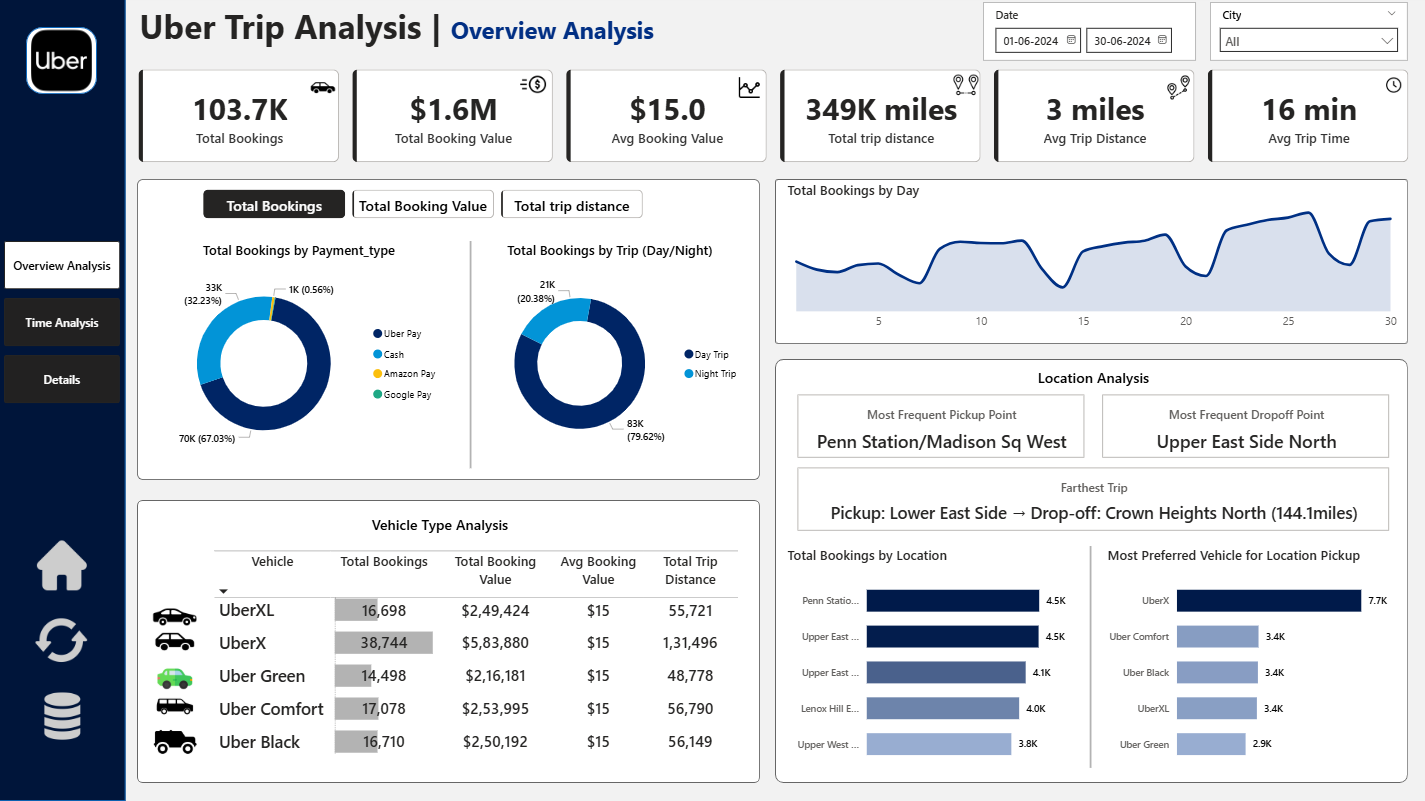

The page's visual inventory and layout, read from the dashboard file:
{"tool":"powerbi","page":{"name":"Overview Analysis","canvas":[1600,900],"ordinal":0},"visuals":[{"type":"shape","box":[0,0,142,900],"z":0},{"type":"cardVisual","fields":{"Data":["Trip Details.Total Bookings","Trip Details.Total Booking Amount","Trip Details.Avg Booking Amt","Trip Details.Total trip distance","Trip Details.Avg Trip Distance","Trip Details.Avg Trip Time"]},"box":[151.9,73.7,1437.5,114.5],"z":0,"group":"g1"},{"type":"textbox","box":[152.6,0,648.6,61.7],"z":1000},{"type":"shape","box":[154.9,202,699.1,337.8],"z":2000},{"type":"image","box":[577.9,76.3,42.6,39.3],"z":3000,"group":"g1"},{"type":"group","id":"g1","title":"Group 1","box":[151.9,73.7,1437.5,114.5],"z":3000},{"type":"image","box":[1066.1,76.3,38.2,39.3],"z":4000,"group":"g1"},{"type":"advancedSlicerVisual","fields":{"Values":["Parameter.Parameter"]},"box":[224.4,211,503.9,40.4],"z":4000},{"type":"image","box":[1305.1,80.8,38.2,37],"z":5000,"group":"g1"},{"type":"donutChart","fields":{"Y":["Trip Details.Total Bookings"],"Category":["Trip Details.Payment_type"]},"box":[169.5,271.6,334.4,254.7],"z":5000},{"type":"image","box":[1548.6,83,32.5,26.9],"z":6000,"group":"g1"},{"type":"donutChart","fields":{"Y":["Trip Details.Total Bookings"],"Category":["Trip Details.Trip Type (Day/Night)"]},"box":[529.7,271.6,312,254.7],"z":6000},{"type":"image","box":[821.4,80.8,40.4,37],"z":7000,"group":"g1"},{"type":"shape","box":[154.9,562.2,699.1,317.6],"z":7000},{"type":"image","box":[344.5,78.5,38.2,41.5],"z":8000,"group":"g1"},{"type":"pivotTable","fields":{"Rows":["Trip Details.Vehicle"],"Values":["Trip Details.Total Bookings","Trip Details.Total Booking Value","Trip Details.Avg Booking Value","Trip Details.Total Trip Distance Measure"]},"box":[236.8,613.8,604.9,257],"z":8000},{"type":"image","box":[155.1,660.7,85.4,65.2],"z":9000},{"type":"image","box":[155.1,693.3,85.4,55.1],"z":10000},{"type":"image","box":[155.1,738.2,85.4,49.4],"z":11000},{"type":"image","box":[143.8,766.3,107.9,55.1],"z":12000},{"type":"image","box":[144.9,804.5,105.6,58.4],"z":13000},{"type":"card","fields":{"Values":["Trip Details.Title for Grid"]},"box":[336.7,570.1,316.5,43.8],"z":14000},{"type":"shape","box":[870.8,202,710.3,185.2],"z":15000},{"type":"shape","box":[870.8,404,710.3,475.8],"z":16000},{"type":"areaChart","fields":{"Category":["Calender Table.Date.Variation.Date Hierarchy.Day"],"Y":["Trip Details.Total Bookings"]},"box":[879.8,204.5,696.6,175.3],"z":17000},{"type":"cardVisual","fields":{"Data":["Trip Details.Most Frequent Pickup Point","Trip Details.Most Frequent Dropoff Point"]},"box":[891,438.8,674.4,81.9],"z":18000},{"type":"cardVisual","fields":{"Data":["Trip Details.Farthest Trip"]},"box":[891,520.7,674.4,81.9],"z":19000},{"type":"barChart","fields":{"Y":["Trip Details.Total Bookings"],"Category":["Location Table.Location"]},"box":[879.8,613.5,325.8,257.3],"z":20000},{"type":"barChart","title":"Most Preferred Vehicle for Location Pickup","fields":{"Category":["Trip Details.Vehicle"],"Y":["CountNonNull(Trip Details.PULocationID)"]},"box":[1239.3,613.5,325.8,257.3],"z":21000},{"type":"shape","box":[453.9,271.9,149.4,255.1],"z":22000},{"type":"shape","box":[1150.6,613.5,149.4,249.4],"z":23000},{"type":"card","fields":{"Values":["Trip Details.Title for Location"]},"box":[996.5,404,463.5,46],"z":24000},{"type":"slicer","fields":{"Values":["Calender Table.Date"]},"box":[1104.5,3.4,239.3,66.3],"z":25000},{"type":"slicer","fields":{"Values":["Location Table.City"]},"box":[1358.4,3.4,222.5,66.3],"z":26000},{"type":"shape","box":[30.3,31.4,79.7,75.2],"z":26001},{"type":"image","box":[10.1,13.5,120.1,111.1],"z":26003},{"type":"pageNavigator","box":[5.6,271.6,130.2,184],"z":26004},{"type":"image","box":[32.5,602.6,76.3,66.2],"z":26005},{"type":"image","box":[35.9,684.5,68.5,70.7],"z":26007},{"type":"image","box":[32.5,773.2,77.4,62.8],"z":26008}]}

Visuals, with their boxes on the page's 1600x900 design canvas (x1, y1, x2, y2). These are canvas units, not pixel positions in the 1425x801 screenshot, which may show the page scaled, cropped or inside an application window:
shape: box=[0, 0, 142, 900]
cardVisual - Trip Details.Total Bookings x Trip Details.Total Booking Amount: box=[152, 74, 1589, 188]
textbox: box=[153, 0, 801, 62]
shape: box=[155, 202, 854, 540]
image: box=[578, 76, 620, 116]
"Group 1" group: box=[152, 74, 1589, 188]
image: box=[1066, 76, 1104, 116]
advancedSlicerVisual - Parameter.Parameter: box=[224, 211, 728, 251]
image: box=[1305, 81, 1343, 118]
donutChart - Trip Details.Total Bookings x Trip Details.Payment_type: box=[170, 272, 504, 526]
image: box=[1549, 83, 1581, 110]
donutChart - Trip Details.Total Bookings x Trip Details.Trip Type (Day/Night): box=[530, 272, 842, 526]
image: box=[821, 81, 862, 118]
shape: box=[155, 562, 854, 880]
image: box=[344, 78, 383, 120]
pivotTable - Trip Details.Vehicle x Trip Details.Total Bookings: box=[237, 614, 842, 871]
image: box=[155, 661, 240, 726]
image: box=[155, 693, 240, 748]
image: box=[155, 738, 240, 788]
image: box=[144, 766, 252, 821]
image: box=[145, 804, 250, 863]
card - Trip Details.Title for Grid: box=[337, 570, 653, 614]
shape: box=[871, 202, 1581, 387]
shape: box=[871, 404, 1581, 880]
areaChart - Calender Table.Date.Variation.Date Hierarchy.Day x Trip Details.Total Bookings: box=[880, 204, 1576, 380]
cardVisual - Trip Details.Most Frequent Pickup Point x Trip Details.Most Frequent Dropoff Point: box=[891, 439, 1565, 521]
cardVisual - Trip Details.Farthest Trip: box=[891, 521, 1565, 603]
barChart - Trip Details.Total Bookings x Location Table.Location: box=[880, 614, 1206, 871]
"Most Preferred Vehicle for Location Pickup" barChart: box=[1239, 614, 1565, 871]
shape: box=[454, 272, 603, 527]
shape: box=[1151, 614, 1300, 863]
card - Trip Details.Title for Location: box=[996, 404, 1460, 450]
slicer - Calender Table.Date: box=[1104, 3, 1344, 70]
slicer - Location Table.City: box=[1358, 3, 1581, 70]
shape: box=[30, 31, 110, 107]
image: box=[10, 14, 130, 125]
pageNavigator: box=[6, 272, 136, 456]
image: box=[32, 603, 109, 669]
image: box=[36, 684, 104, 755]
image: box=[32, 773, 110, 836]
